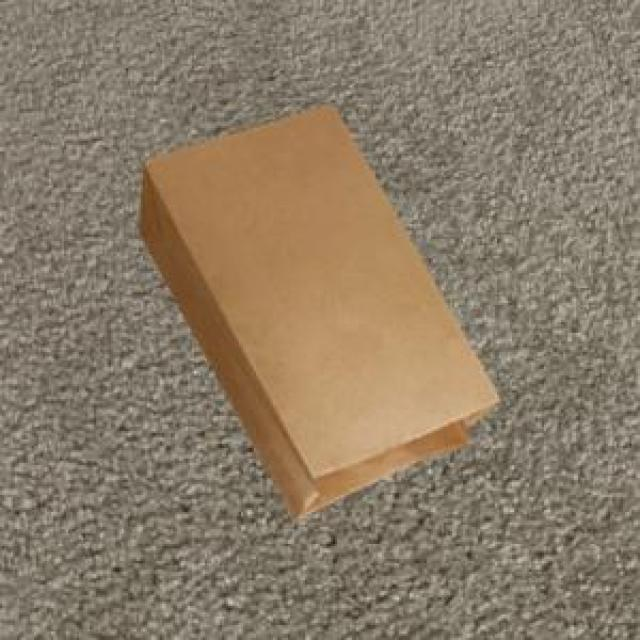paper: (134, 100, 495, 516)
